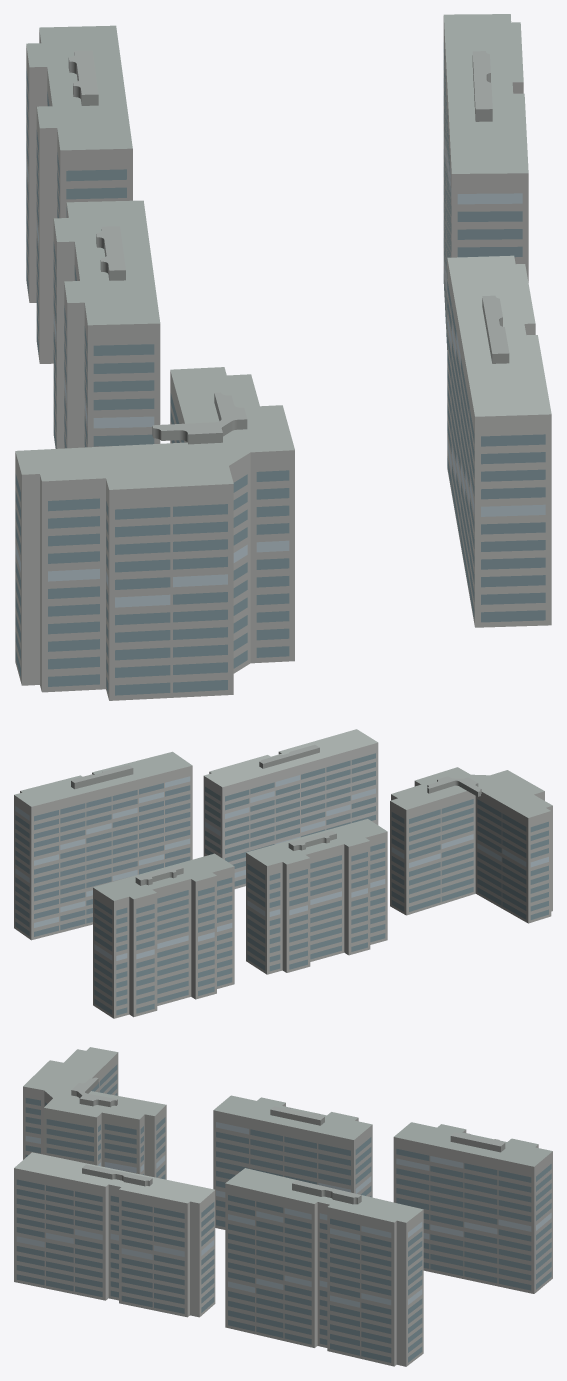
Rendered from apt-a15213006.glb.
3 renders of one model, top to bottom at view 1: azimuth 30°, elevation 25°; view 2: azimuth 150°, elevation 25°; view 3: azimuth 270°, elevation 25°, orthographic. The views are drawn at different scales.
Visible parts, largest first — view 1: apt-a15213006; view 2: apt-a15213006; view 3: apt-a15213006.
Boxes of the visible parts, x1=… form: apt-a15213006: x1=15, y1=14, x2=551, y2=700; apt-a15213006: x1=14, y1=729, x2=552, y2=1018; apt-a15213006: x1=14, y1=1047, x2=552, y2=1366.
Size of the model in its own units: 126 by 43 by 139.
